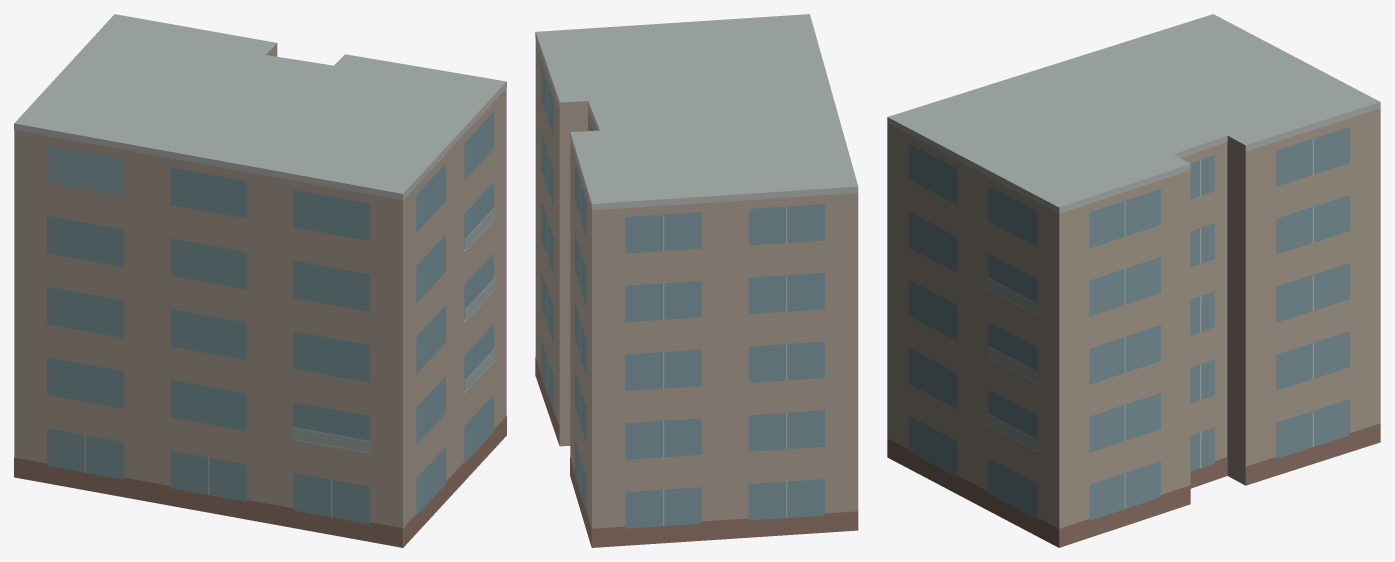
Rendered from survey-upis-32731028.glb.
3 views of the same model, side by side, from view 1: azimuth 30°, elevation 25°; view 2: azimuth 150°, elevation 25°; view 3: azimuth 270°, elevation 25° (orthographic). The views are drawn at different scales.
Visible parts, largest first — view 1: survey-upis-32731028.tmp; view 2: survey-upis-32731028.tmp; view 3: survey-upis-32731028.tmp.
Boxes of the visible parts, x1=… form: survey-upis-32731028.tmp: x1=14, y1=14, x2=506, y2=547; survey-upis-32731028.tmp: x1=535, y1=14, x2=858, y2=547; survey-upis-32731028.tmp: x1=887, y1=14, x2=1380, y2=547.
Bounding box in the file's own units: 15.92 × 13.05 × 17.15.
